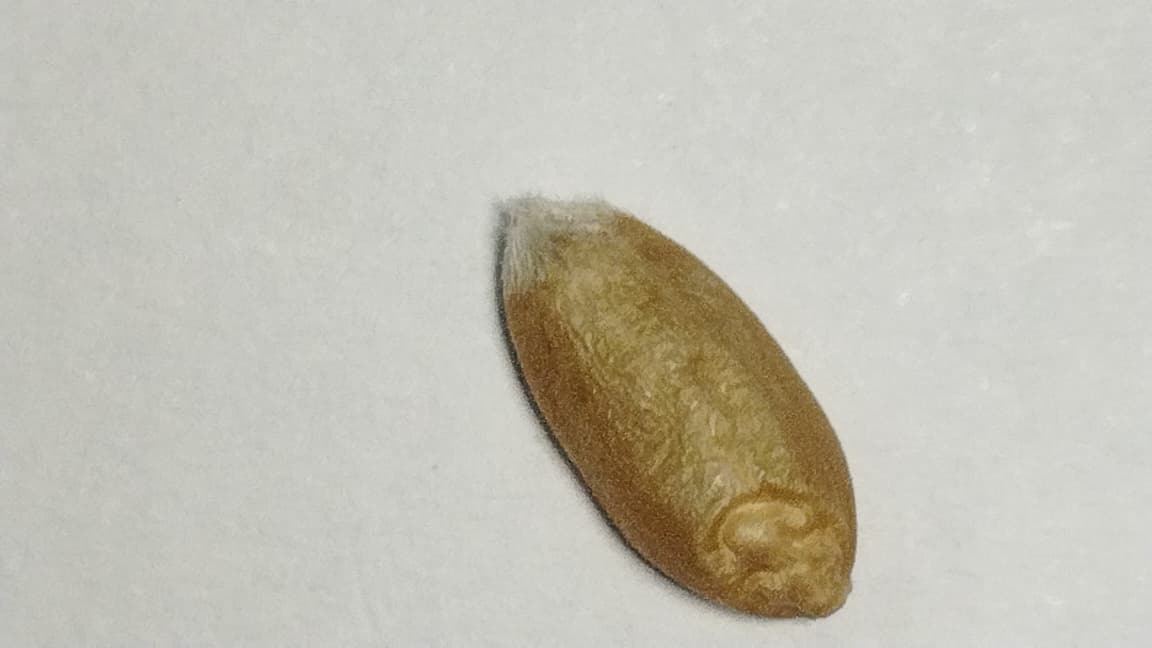healthy: (501, 196, 854, 616)
